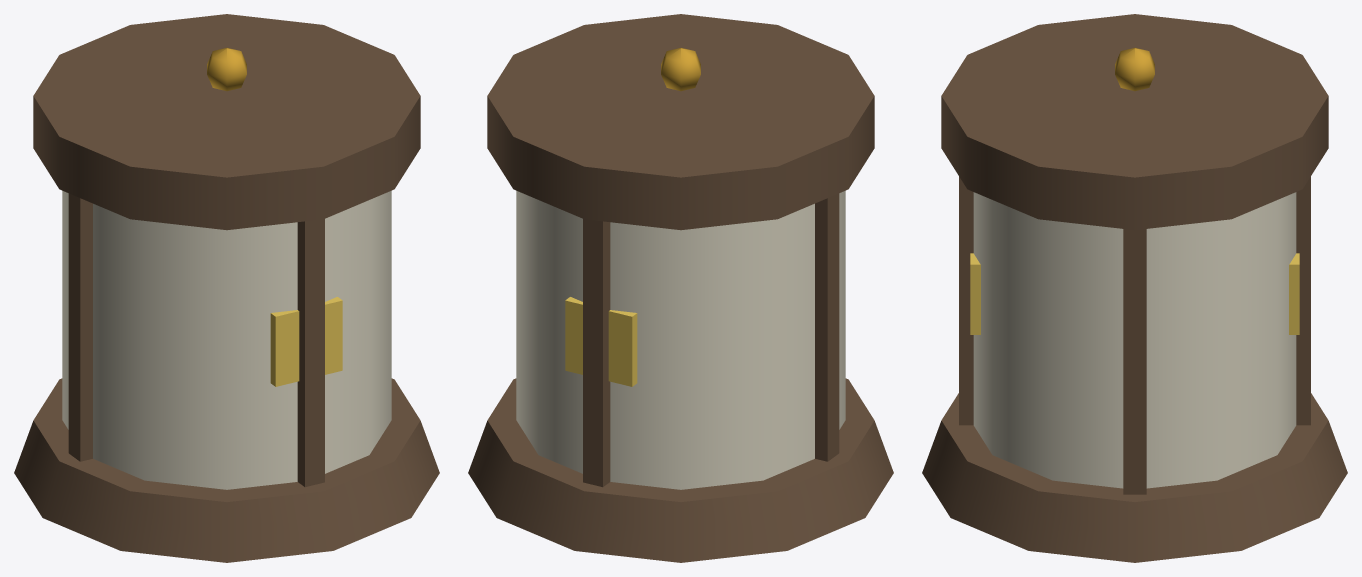
The model's file is Night_lantern.obj.
The picture shows the model from 3 angles, left to right: view 1: azimuth 30°, elevation 25°; view 2: azimuth 150°, elevation 25°; view 3: azimuth 270°, elevation 25°; orthographic projection.
Parts seen in each view (by area): view 1: Night_lantern; view 2: Night_lantern; view 3: Night_lantern.
Boxes of the visible parts, x1,y1,x2,y2 form: Night_lantern: (14,14,439,562); Night_lantern: (468,14,893,562); Night_lantern: (922,14,1347,562).
Size of the model in its own units: 0.22 by 0.242 by 0.22.
